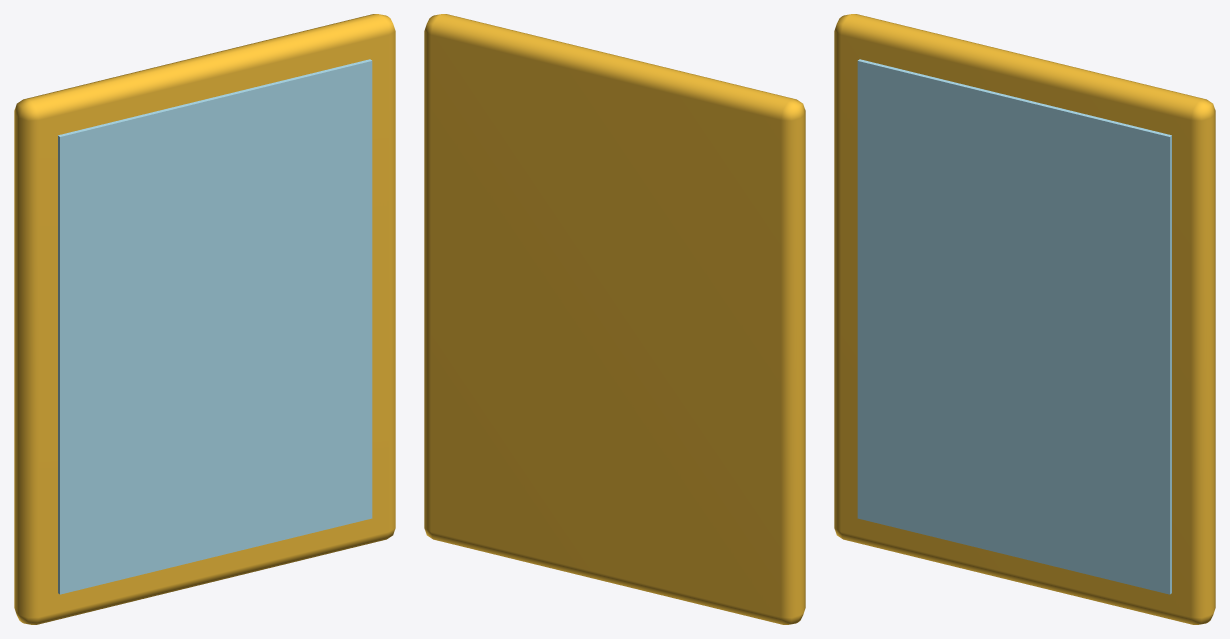
The model's file is Mirror.fbx.
3 renders of one model, left to right at view 1: azimuth 30°, elevation 25°; view 2: azimuth 150°, elevation 25°; view 3: azimuth 330°, elevation 25°, orthographic.
Visible parts, largest first — view 1: Mirror; view 2: Mirror; view 3: Mirror.
Boxes of the visible parts, x1=… form: Mirror: x1=14, y1=14, x2=395, y2=624; Mirror: x1=424, y1=14, x2=805, y2=624; Mirror: x1=834, y1=14, x2=1215, y2=624.
Size of the model in its own units: 2.4 by 3.2 by 0.225.
1 material, 1 textured.
